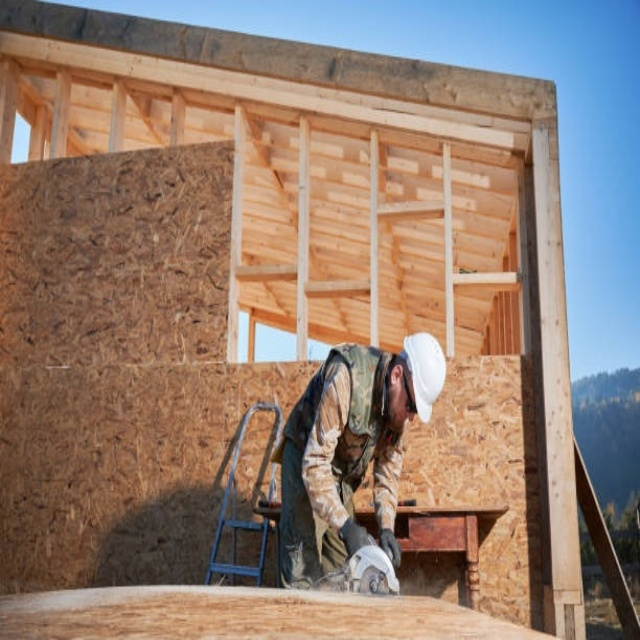Gafas: (401, 362, 417, 415)
Guantes: (340, 518, 376, 560), (380, 529, 402, 569)
